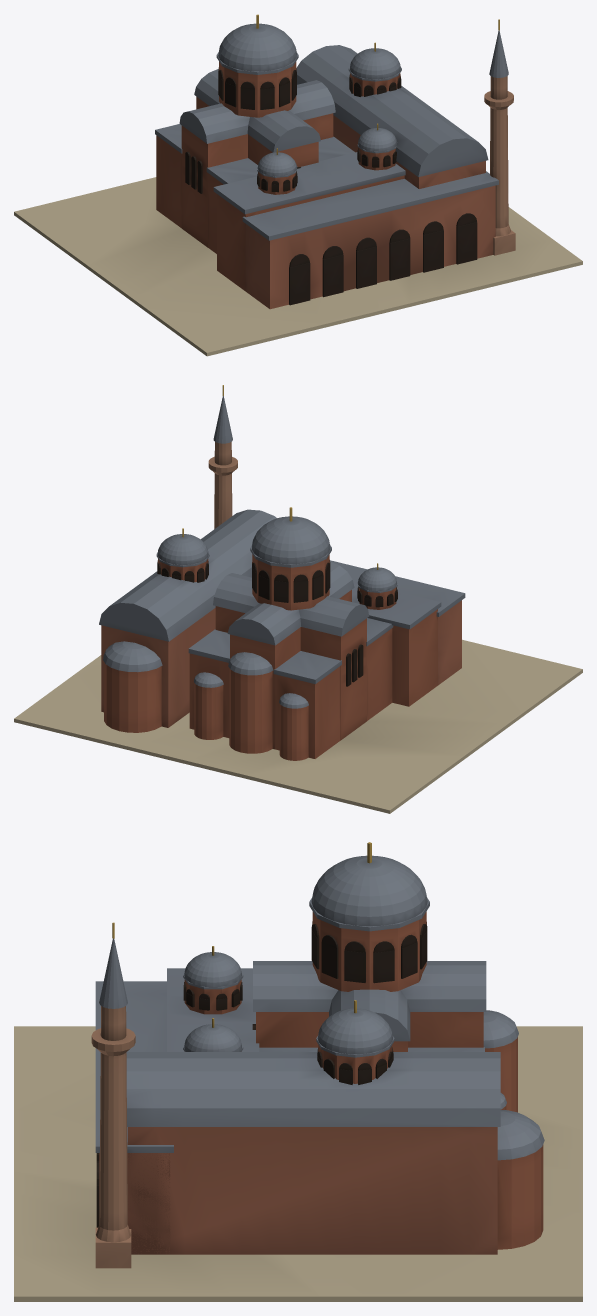
The model's file is chora-mosque.glb.
The picture shows the model from 3 angles, top to bottom: view 1: azimuth 30°, elevation 25°; view 2: azimuth 150°, elevation 25°; view 3: azimuth 270°, elevation 25°; orthographic projection. The views are drawn at different scales.
Parts seen in each view (by area): view 1: p2_Metochites, p0_church, p1_naos, p3_minaret; view 2: p1_naos, p0_church, p2_Metochites, p3_minaret; view 3: p2_Metochites, p0_church, p1_naos, p3_minaret.
Part boxes in pixels (box(x1,y1,x2,y2)): p2_Metochites: box(242, 42, 498, 309); p0_church: box(14, 177, 582, 356); p1_naos: box(155, 14, 405, 291); p3_minaret: box(484, 19, 515, 255); p1_naos: box(188, 507, 441, 760); p0_church: box(14, 639, 582, 813); p2_Metochites: box(99, 509, 465, 732); p3_minaret: box(208, 385, 237, 528); p2_Metochites: box(95, 946, 544, 1254); p0_church: box(14, 1026, 582, 1301); p1_naos: box(167, 842, 518, 1112); p3_minaret: box(91, 922, 135, 1268).
Size of the model in its own units: 45 by 26.6 by 40.
